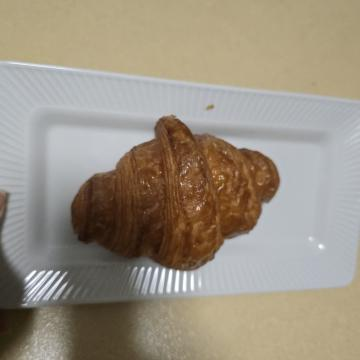croissant: (106, 72, 285, 301)
